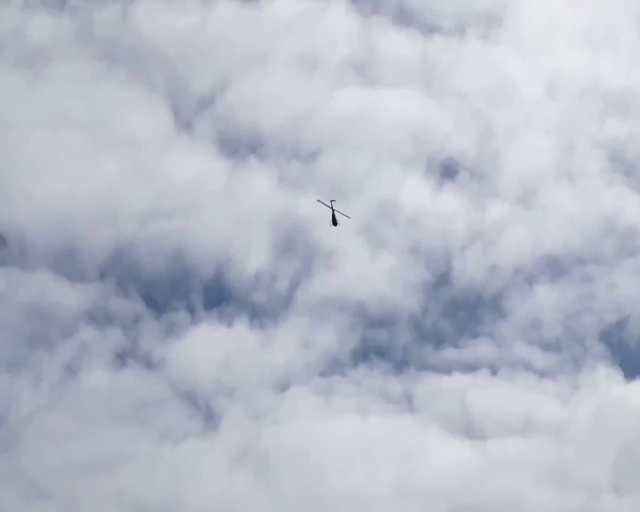HELICOPTER: (316, 198, 351, 227)
